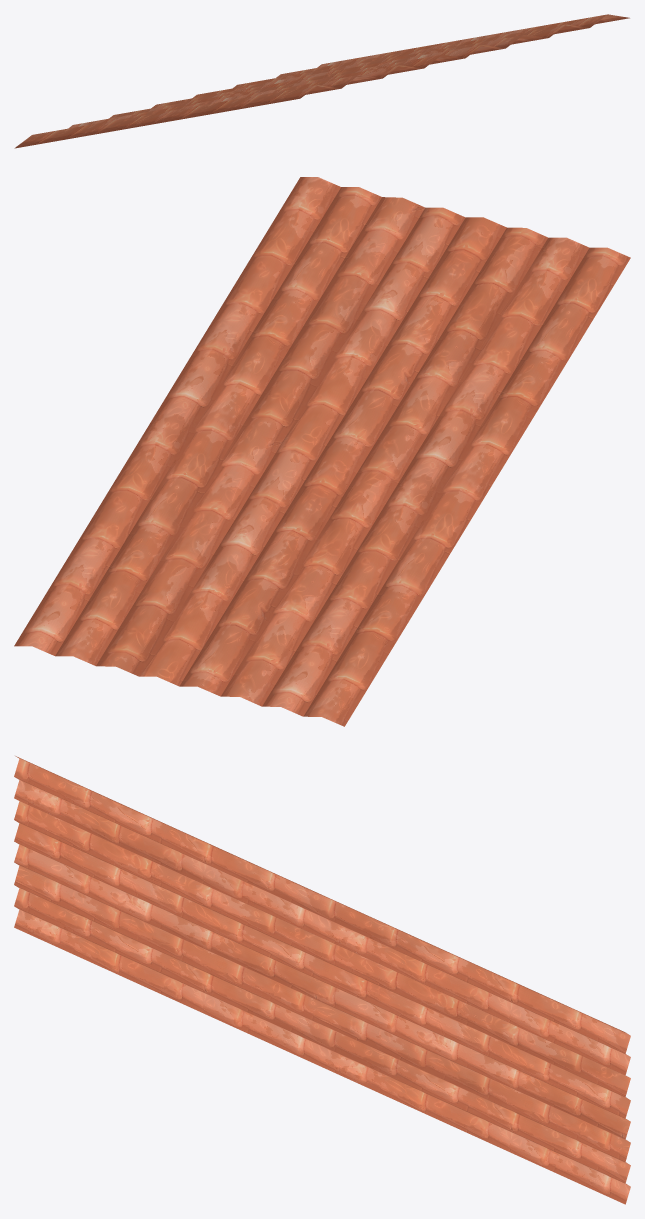
Rendered from RoofTiles_26deg.fbx.
3 renders of one model, top to bottom at view 1: azimuth 30°, elevation 25°; view 2: azimuth 150°, elevation 25°; view 3: azimuth 270°, elevation 25°, orthographic. The views are drawn at different scales.
Parts seen in each view (by area): view 1: Roof26_Tiles; view 2: Roof26_Tiles; view 3: Roof26_Tiles.
Part boxes in pixels (<box>): Roof26_Tiles: <box>14,14,629,148</box>; Roof26_Tiles: <box>14,177,630,726</box>; Roof26_Tiles: <box>14,756,630,1204</box>.
Size of the model in its own units: 2 by 3.03 by 1.54.
